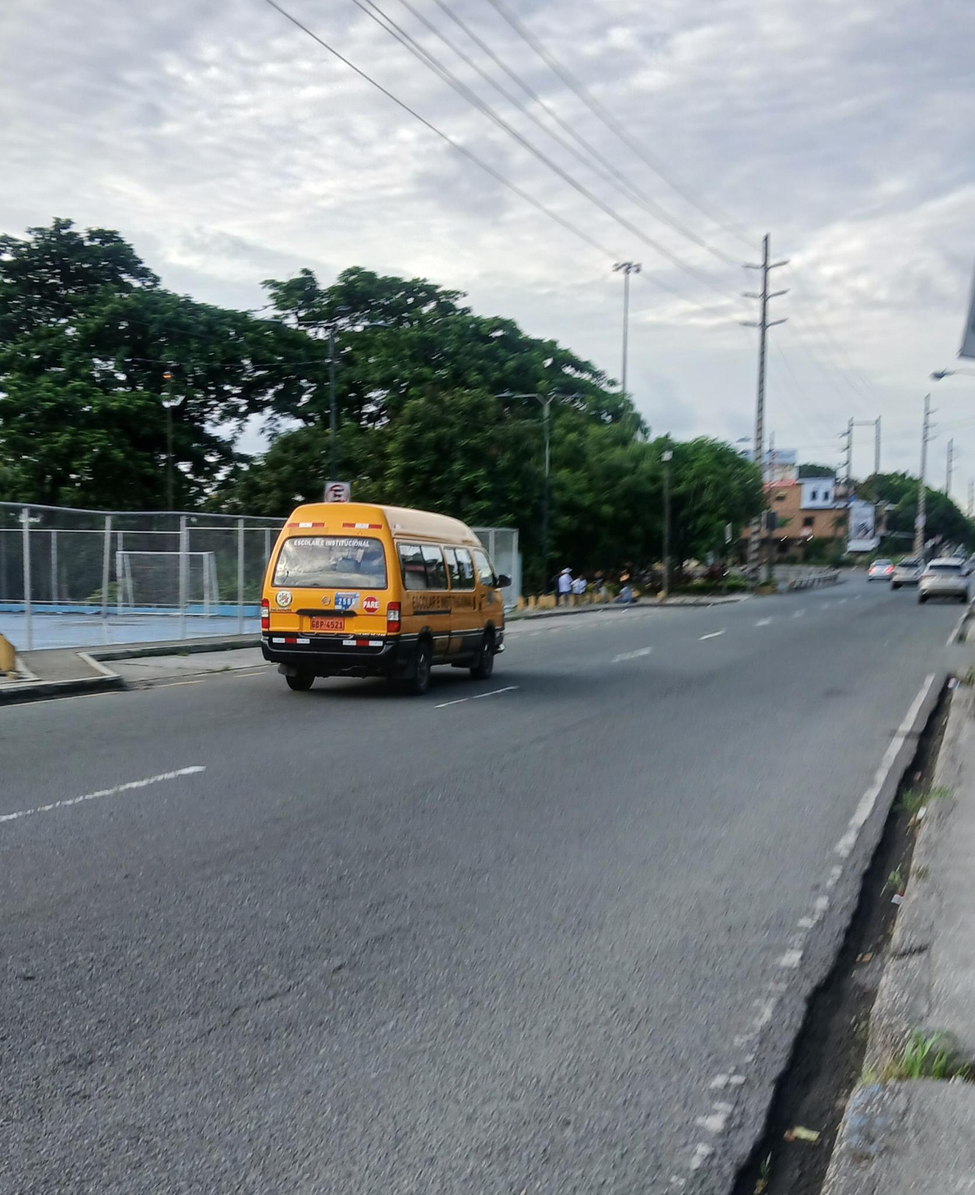license_plate: (306, 617, 342, 630)
